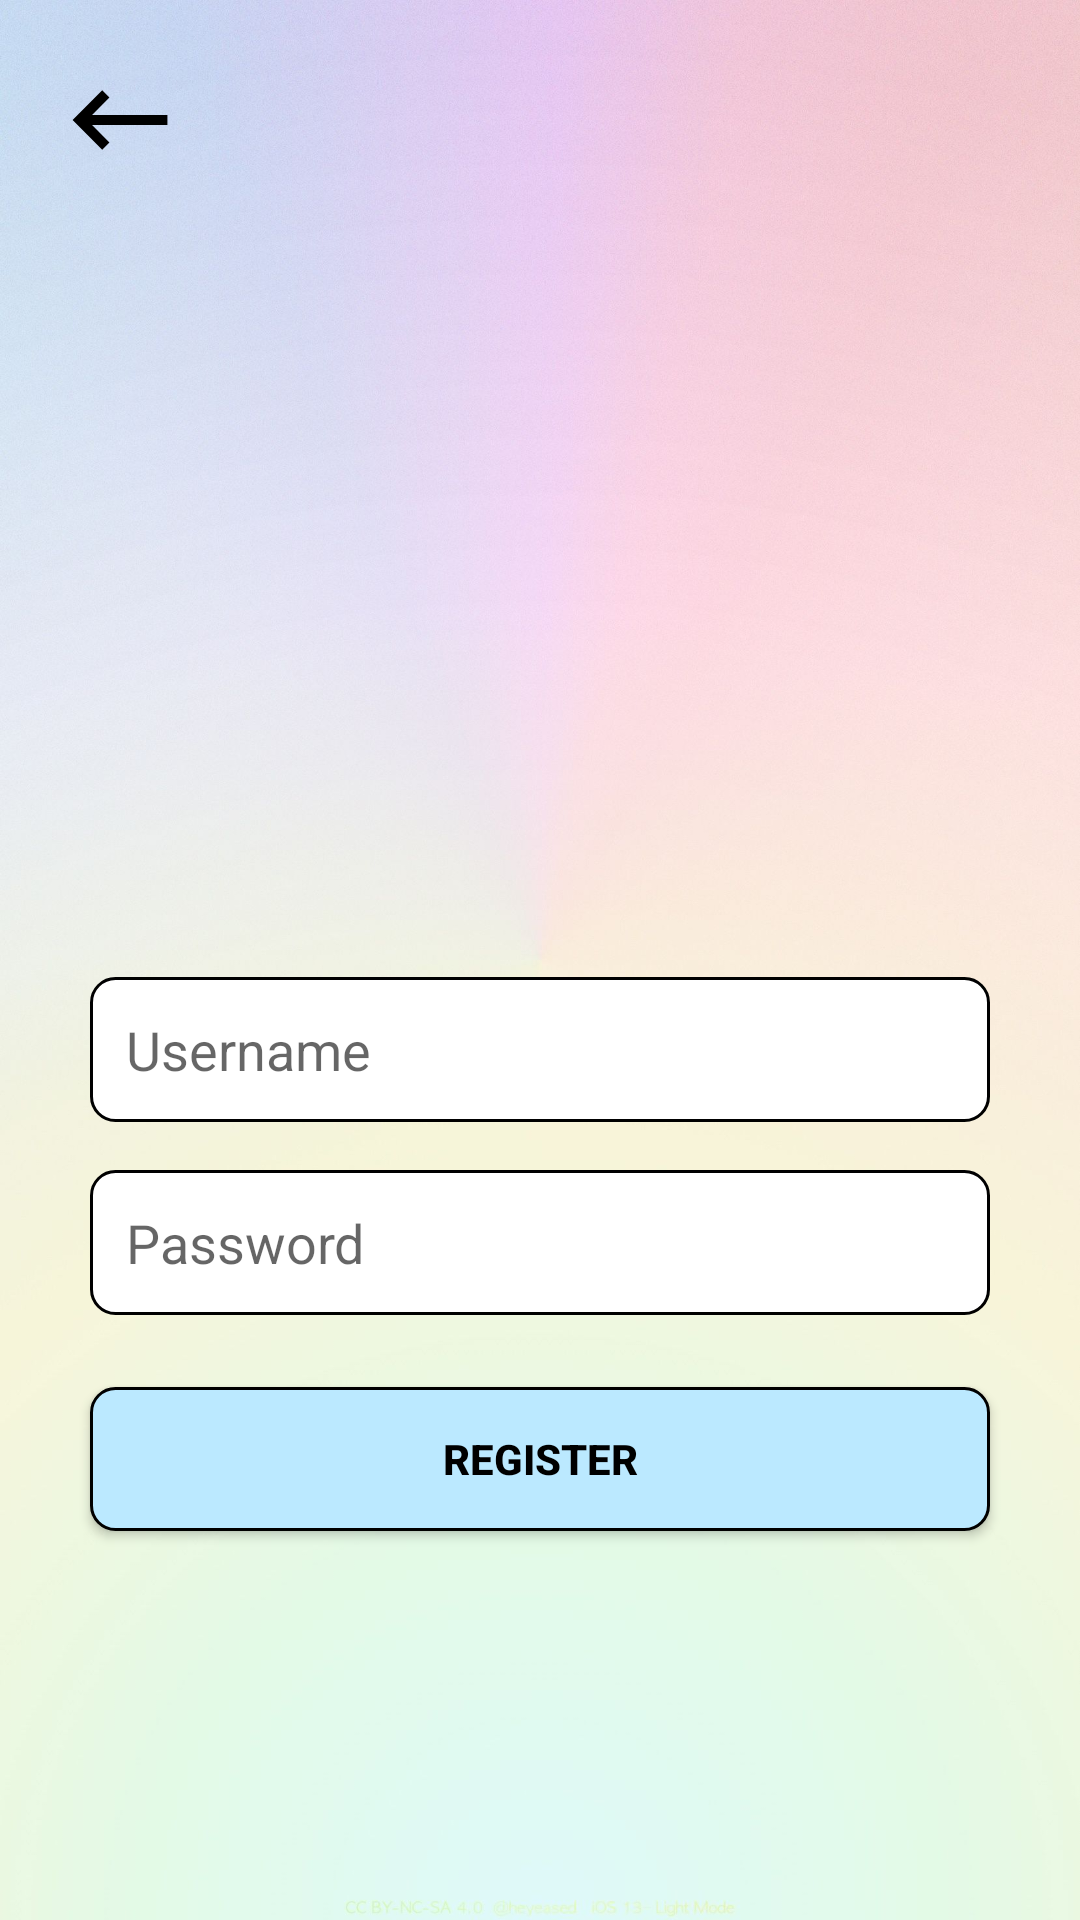

Screen size 1080×1920. Icon name, then its box in pixels as (x1, y1, x2, y2):
back: (73, 90, 168, 150)
